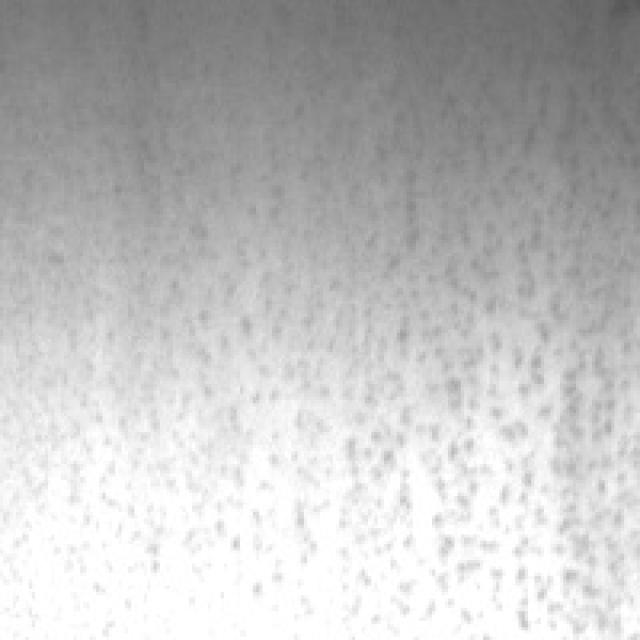pitted_surface: (32, 3, 624, 621)
